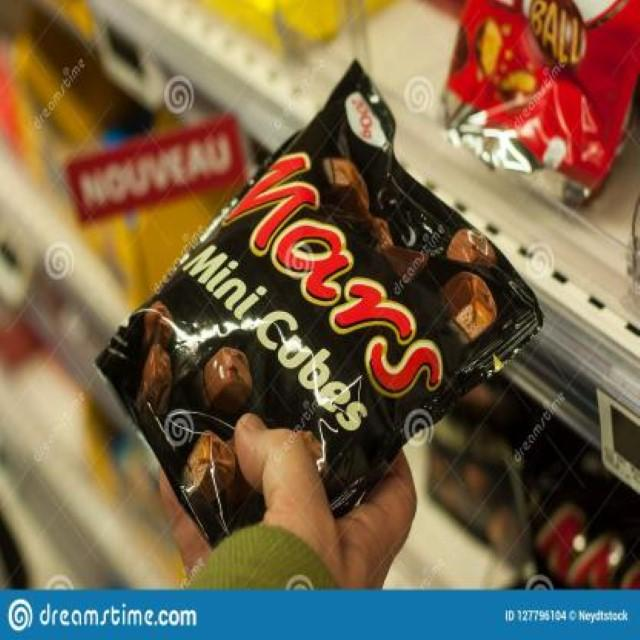mars_chocolate: (78, 103, 515, 515)
